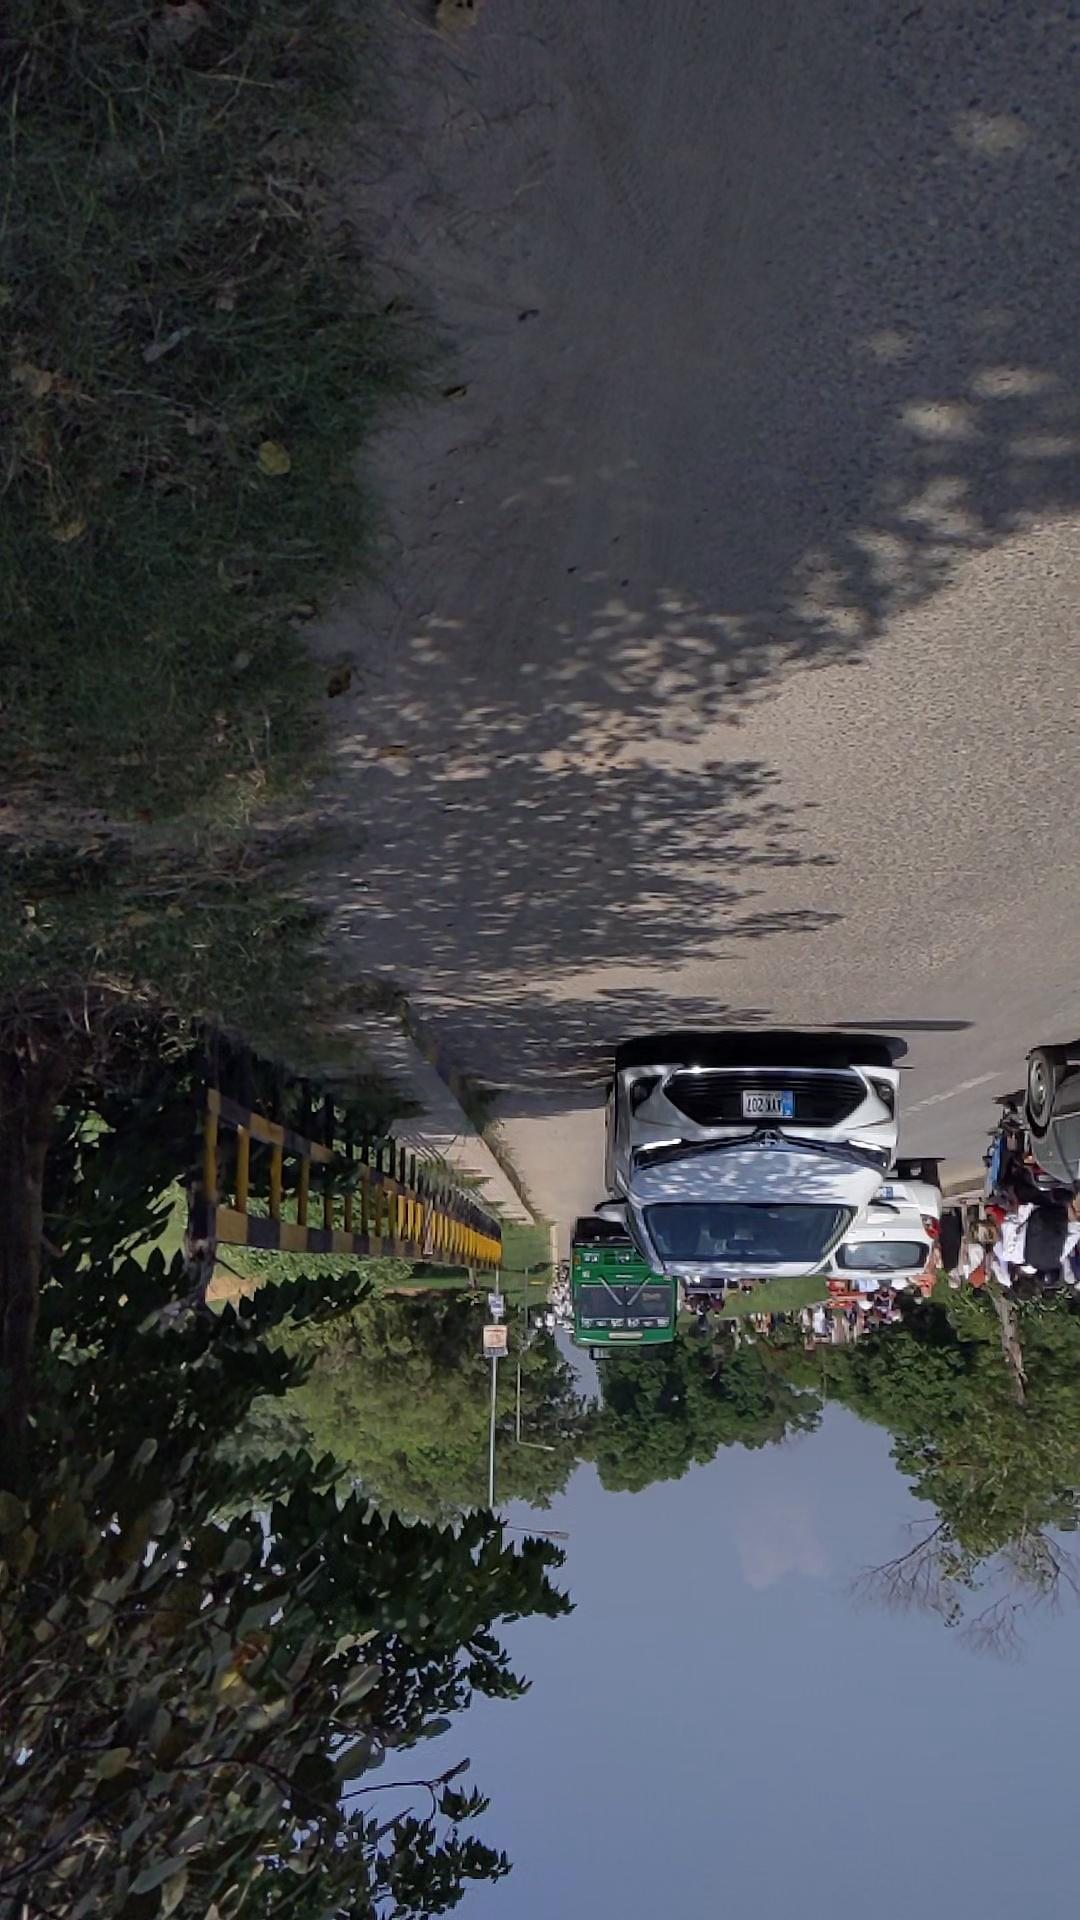windshield: (214, 650, 447, 716)
